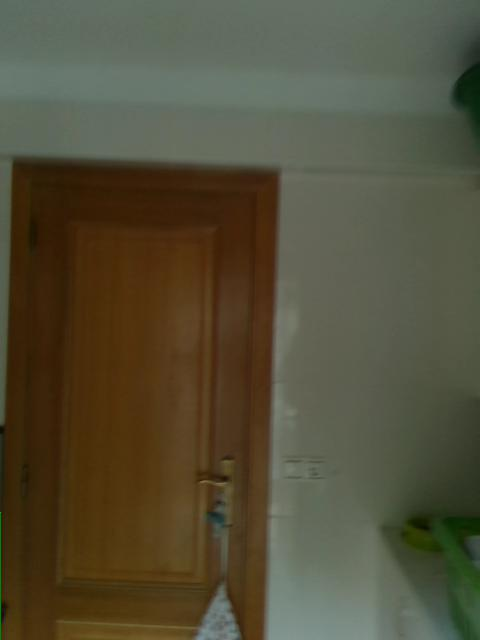door: (0, 154, 281, 639)
